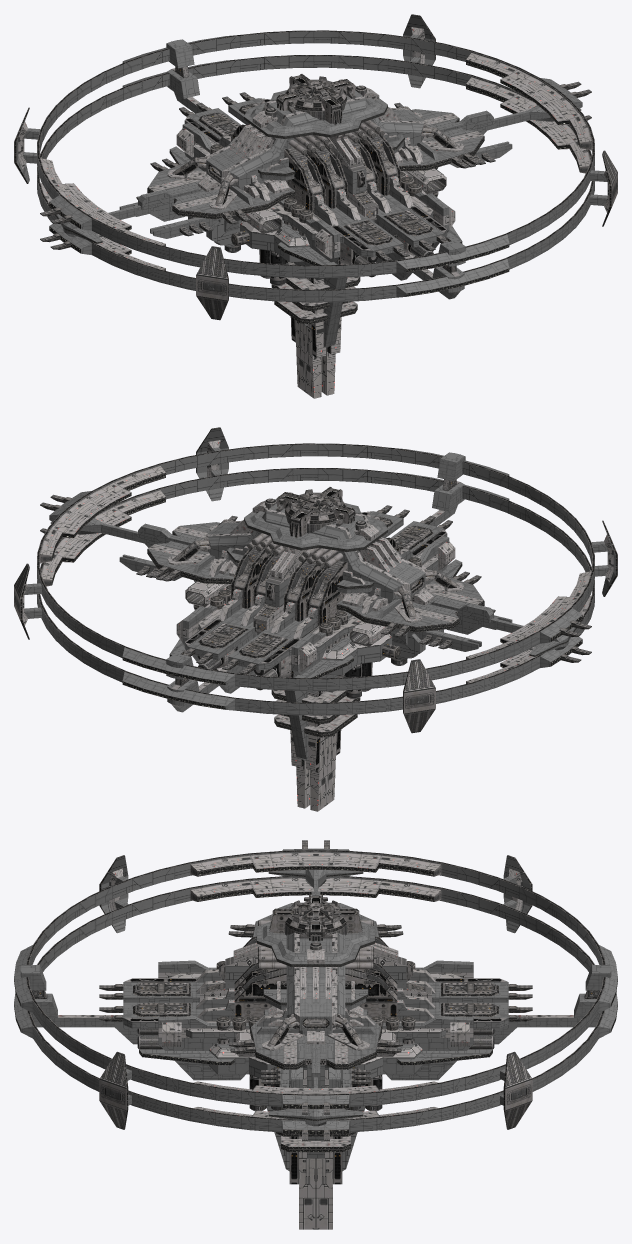
The model's file is gangut_space_hub.glb.
3 renders of one model, top to bottom at view 1: azimuth 30°, elevation 25°; view 2: azimuth 150°, elevation 25°; view 3: azimuth 270°, elevation 25°, orthographic. The views are drawn at different scales.
Parts seen in each view (by area): view 1: GangutStation; view 2: GangutStation; view 3: GangutStation.
Boxes of the visible parts, bbox=[...] form: GangutStation: bbox=[14, 14, 617, 398]; GangutStation: bbox=[14, 427, 617, 811]; GangutStation: bbox=[14, 840, 617, 1229].
Bounding box in the file's own units: 1358 × 739 × 1269.
3 materials, 3 textured.
